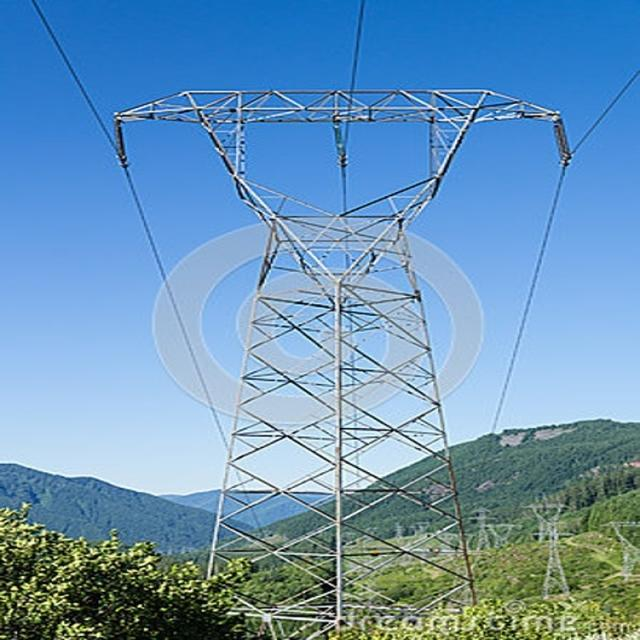non-critical vegetation: (95, 63, 570, 588)
